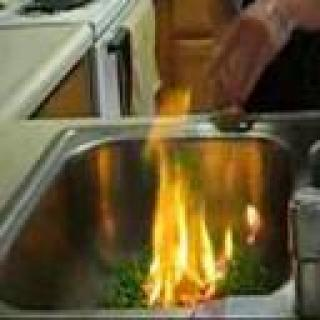fire: (140, 120, 225, 309)
